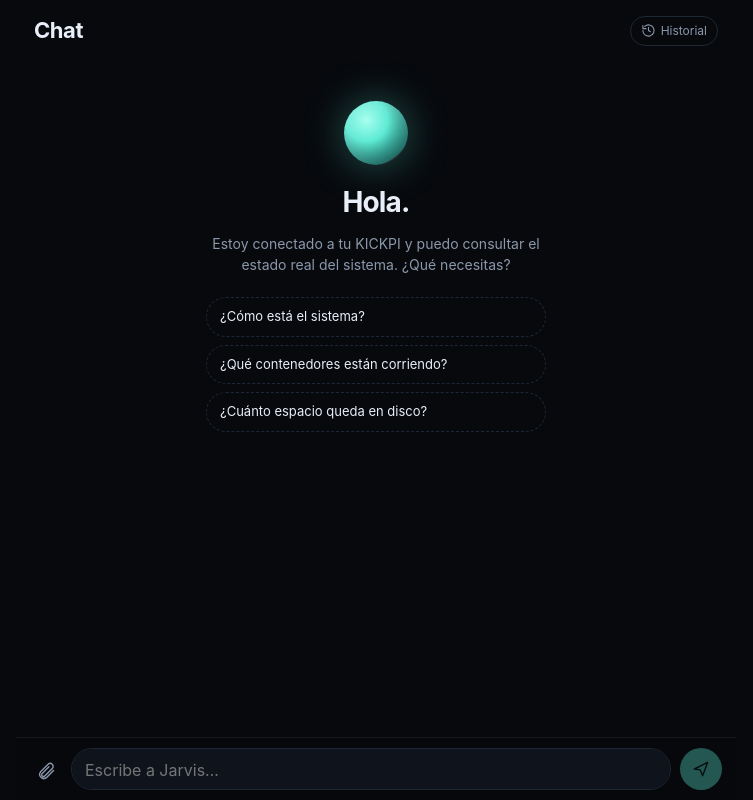
Chat · detener y actividad en vivo › detener pide al servidor y marca el texto como interrumpido
The width and height of the screenshot is (753, 800).
Expected: the heading "Hola." is shown, x1=342 y1=181 x2=410 y2=223
Type "hola" into the text box with placeholder "Escribe a Jarvis…" at x=371, y=769, box x1=71 y1=748 x2=671 y2=790
Then press Enter
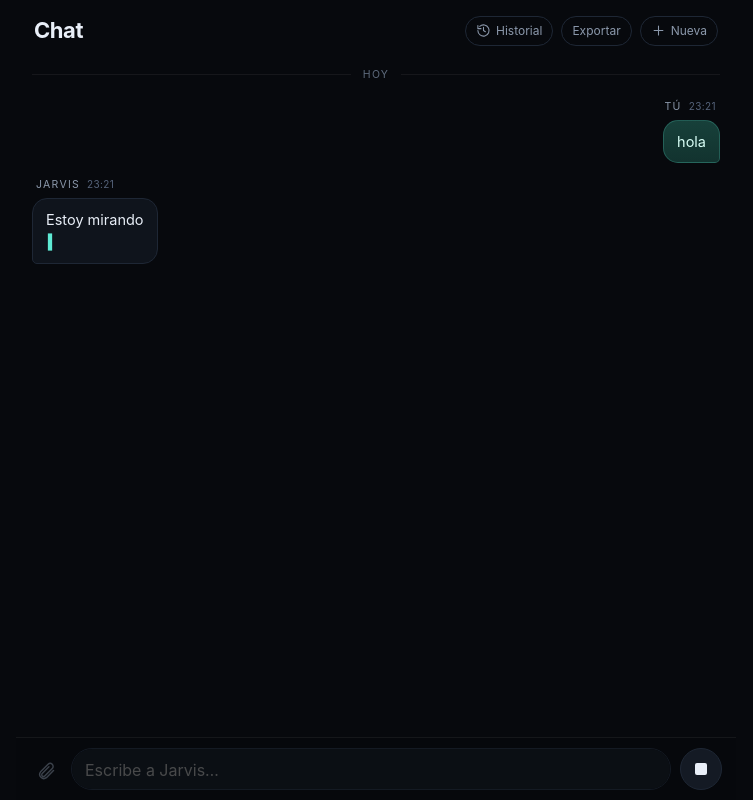
Result: the text "Estoy mirando" is shown at x1=46 y1=211 x2=144 y2=228
Click the button named "Detener la respuesta" at x=701, y=769, box x1=680 y1=748 x2=722 y2=790
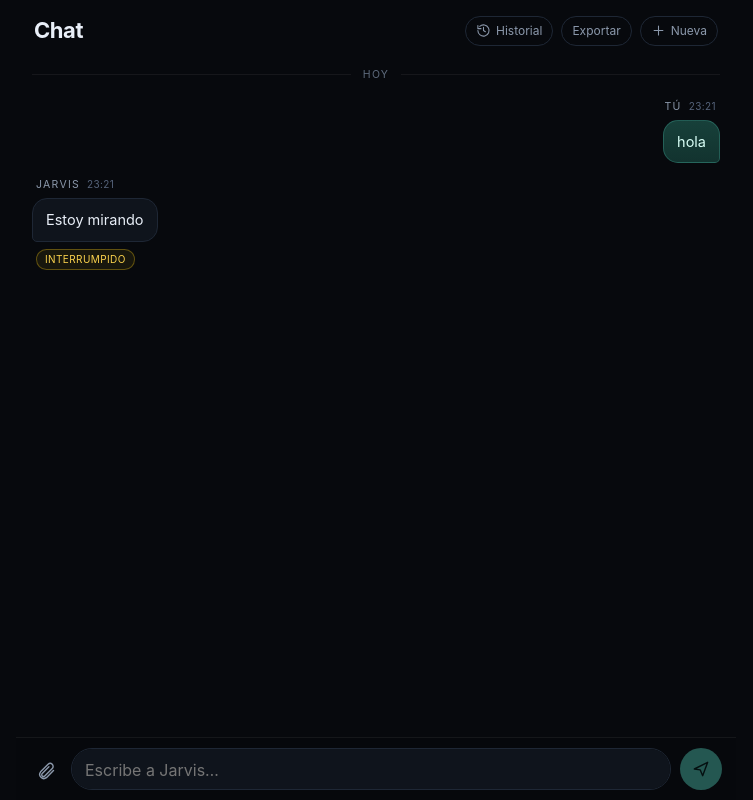
Result: the text "interrumpido" is shown at x1=36 y1=249 x2=135 y2=270
